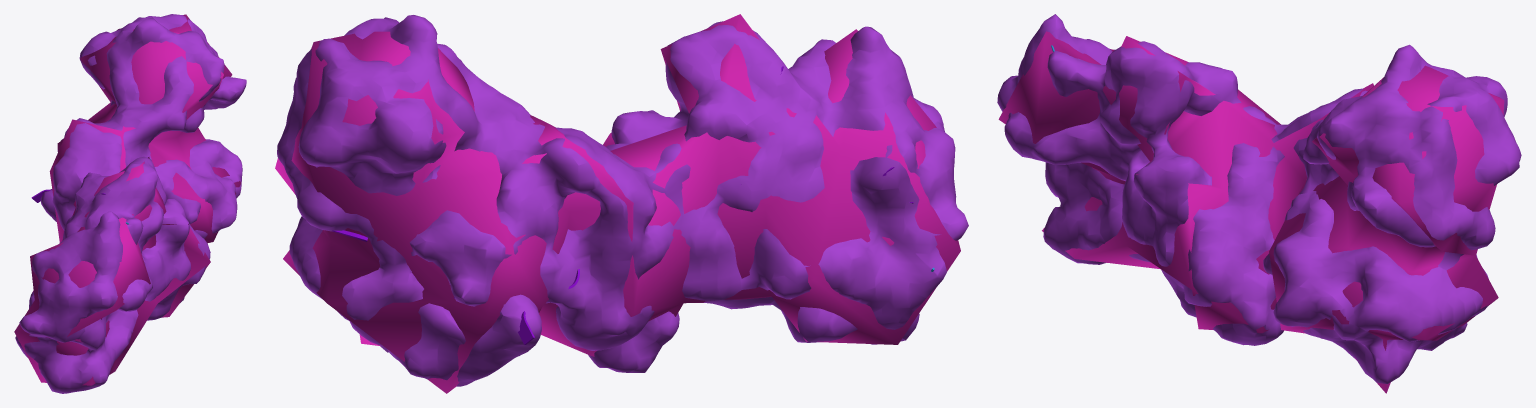
File: 4LV5_for_export.fbx
3 renders of one model, left to right at view 1: azimuth 30°, elevation 25°; view 2: azimuth 150°, elevation 25°; view 3: azimuth 270°, elevation 25°, orthographic. The views are drawn at different scales.
Visible parts, largest first — view 1: surface, CoarseMS_4lv5; view 2: surface, CoarseMS_4lv5; view 3: surface, CoarseMS_4lv5.
Boxes of the visible parts, <box> form: surface: <box>15,14,246,393</box>; CoarseMS_4lv5: <box>14,14,241,385</box>; surface: <box>277,15,968,386</box>; CoarseMS_4lv5: <box>275,14,960,393</box>; surface: <box>997,14,1521,384</box>; CoarseMS_4lv5: <box>998,31,1504,393</box>.
Size of the model in its own units: 94.72 by 67.53 by 94.5.
